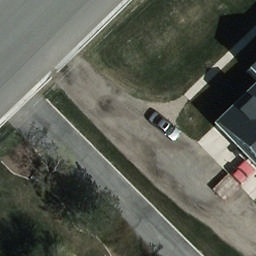car: (145, 110, 182, 143)
pickup: (213, 162, 252, 202)
